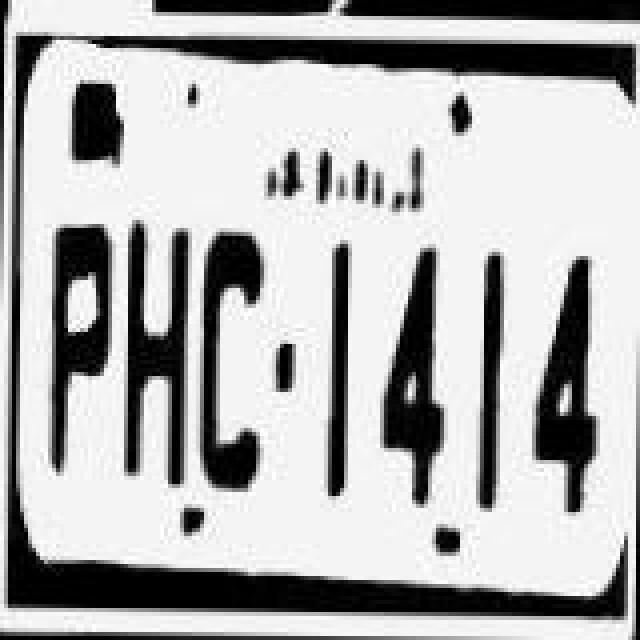1: (468, 230, 524, 514), (308, 230, 364, 506)
4: (530, 240, 618, 520), (380, 224, 460, 500)
C: (200, 220, 280, 496)
H: (118, 222, 194, 494)
P: (38, 220, 122, 492)
